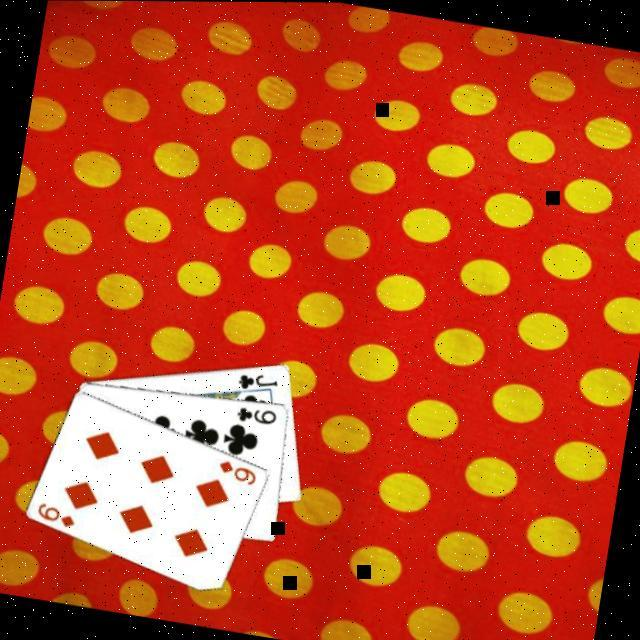6D: (215, 457, 262, 489), (34, 500, 80, 532)
9C: (233, 402, 282, 430)
JC: (235, 368, 282, 398)
